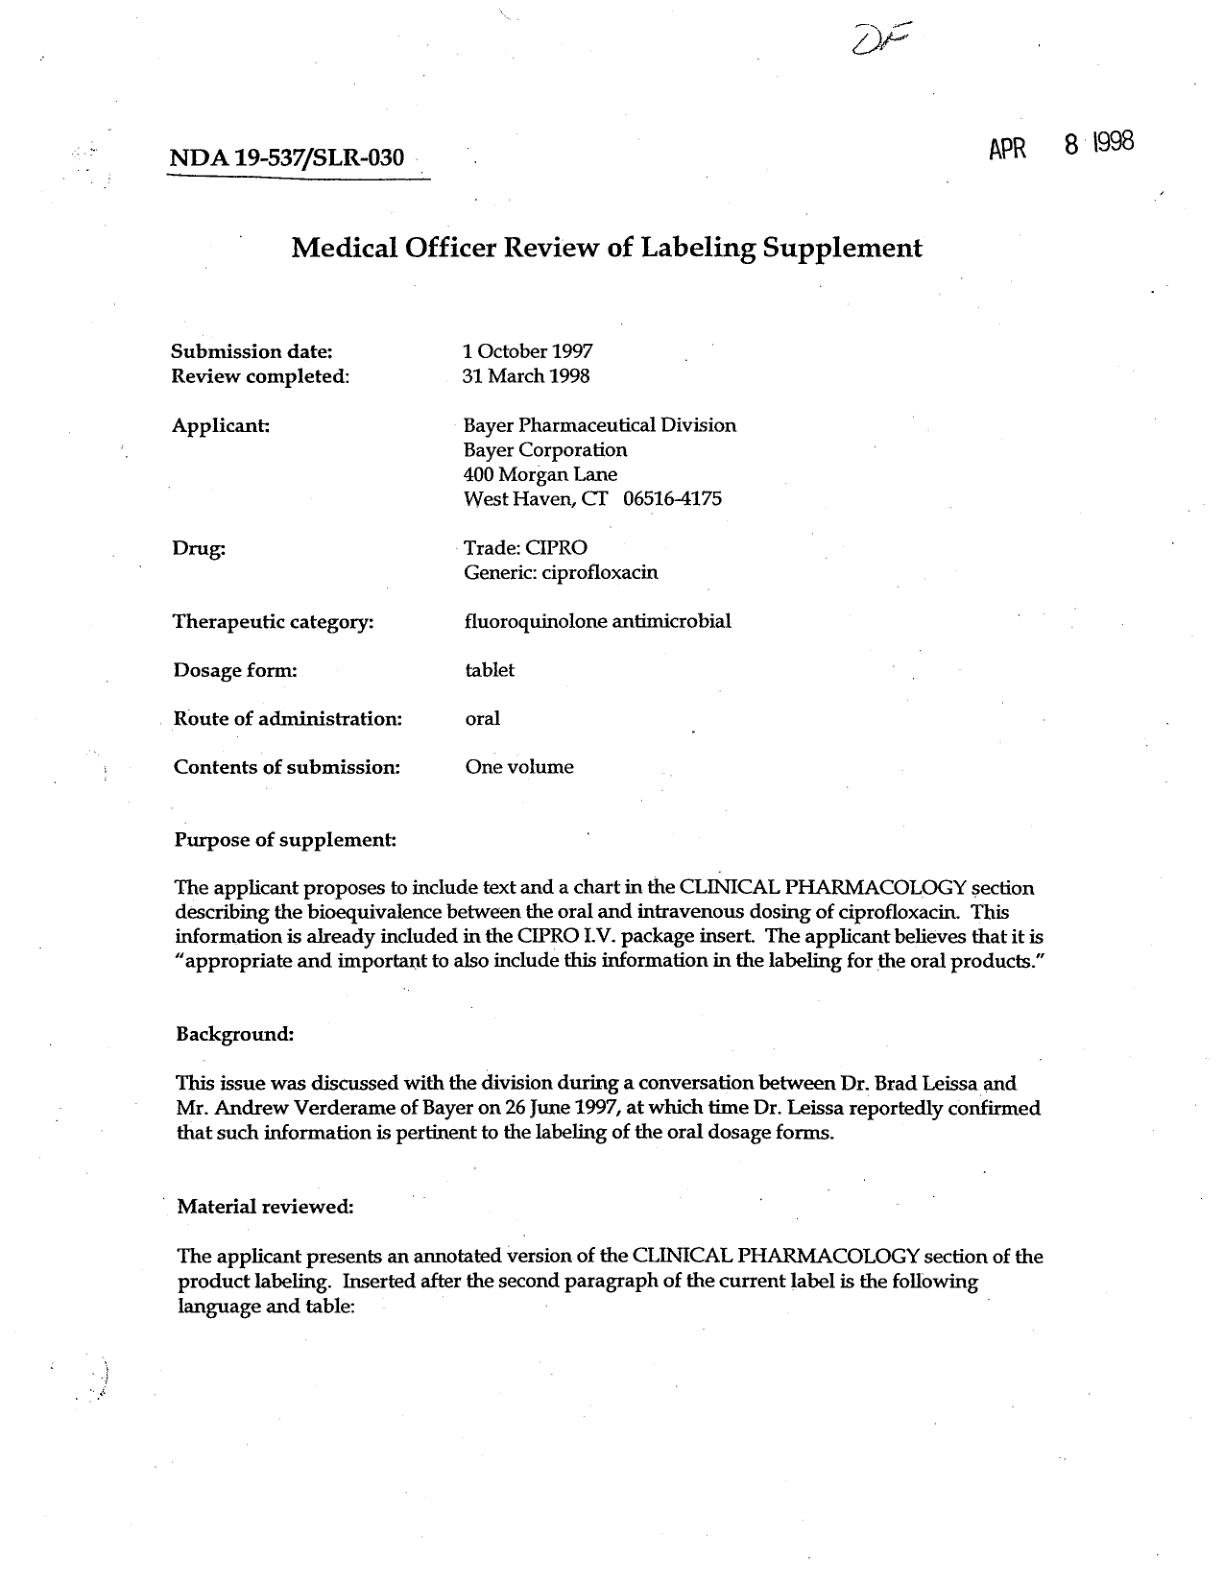nolines: (170, 330, 742, 854)
